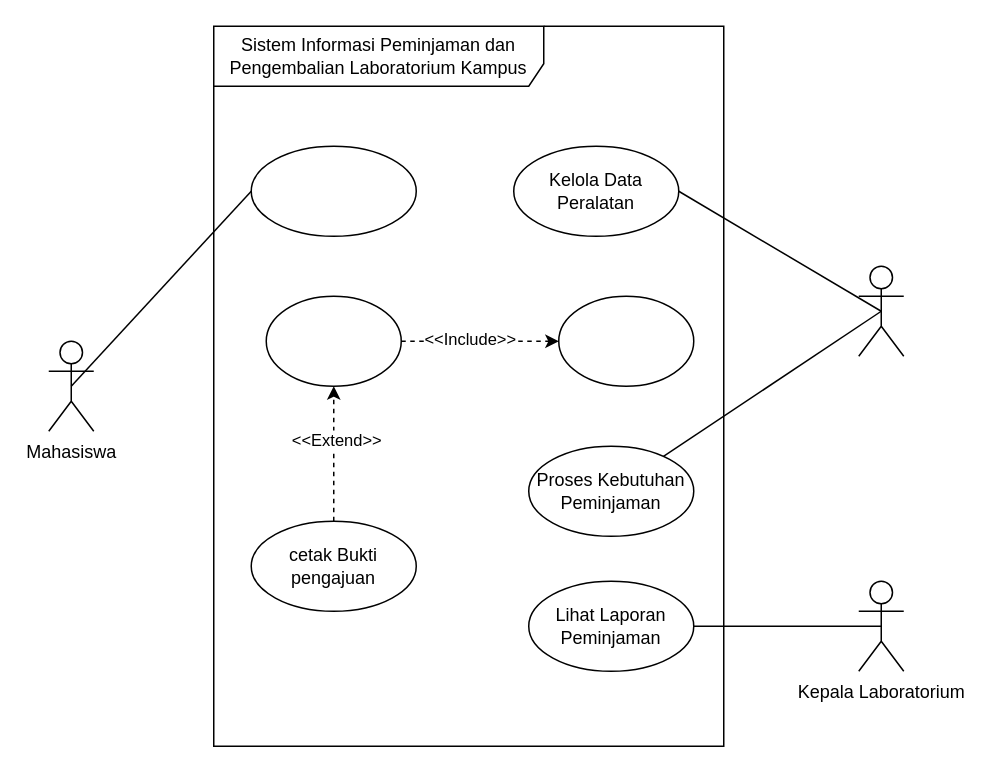
Some shapes in this 995 by 773 pixel diagram are drawn without their labels. The centre of each missing label's shape, as x and y in pixels:
Ajukan Peminjaman: the point at 333,340
Lihat Ketersediaan Peralatan: the point at 333,190
Periksa Ketersediaan: the point at 625,340
Petugas Laboratorium: the point at 880,310
